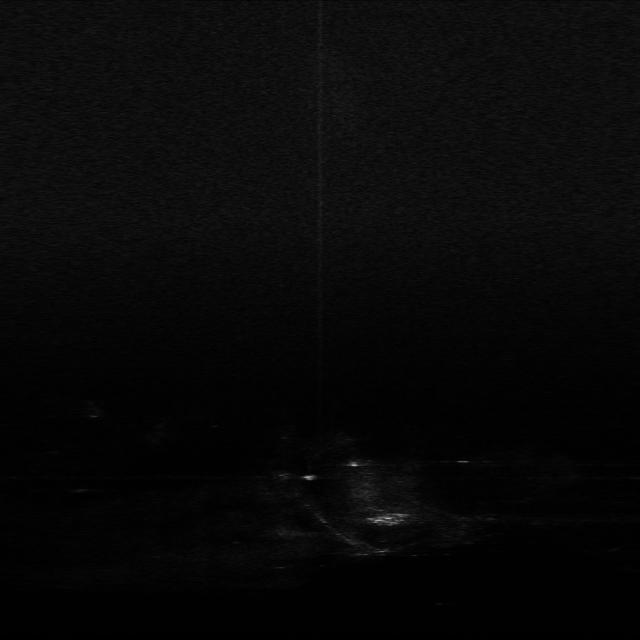rov: (367, 508, 409, 529)
